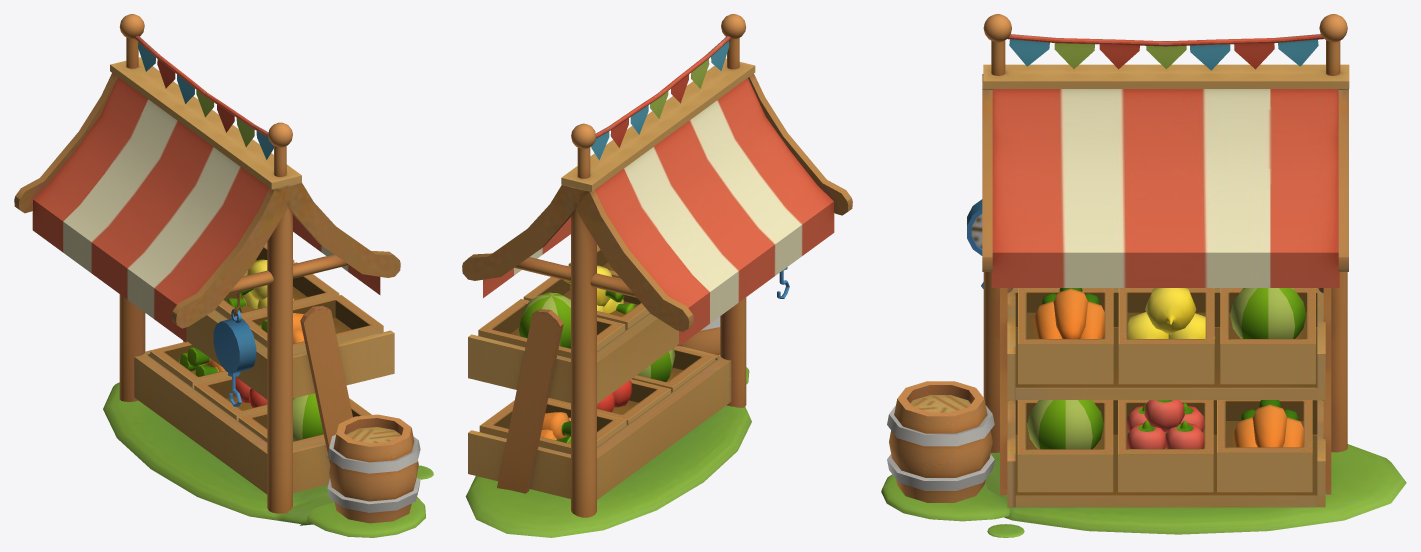
File: shop.fbx
3 views of the same model, side by side, from view 1: azimuth 30°, elevation 25°; view 2: azimuth 150°, elevation 25°; view 3: azimuth 270°, elevation 25° (orthographic). The views are drawn at different scales.
Visible parts, largest first — view 1: tent, floor, shop-1, roof-1, rack-2.001, Barrel, roof-2, rack-1, rack-2, Flags, Box-1.001, scales (+7 smaller); view 2: tent, floor, shop-1, rack-2.001, roof-1, rack-1, rack-2, roof-2, Flags, Box-3, Box-6, Box-5 (+9 smaller); view 3: tent, floor, Barrel, roof-2, rack-1, rack-2.001, shop-1, Box-1, Box-6, Box-1.001, Flags, Box-3 (+19 smaller).
Boxes of the visible parts, x1,y1,x2,y2 form: tent: (32, 77, 380, 342); floor: (103, 382, 433, 537); shop-1: (119, 37, 292, 513); roof-1: (14, 73, 400, 328); rack-2.001: (134, 342, 330, 494); Barrel: (327, 414, 420, 523); roof-2: (110, 57, 301, 189); rack-1: (186, 310, 394, 399); rack-2: (183, 306, 352, 464); Flags: (134, 35, 273, 159); Box-1.001: (243, 295, 383, 354); scales: (213, 308, 256, 406); tent: (483, 78, 834, 345); floor: (465, 367, 751, 537); shop-1: (571, 38, 746, 517); rack-2.001: (468, 345, 731, 499); roof-1: (462, 73, 852, 331); rack-1: (468, 313, 678, 403); rack-2: (497, 309, 681, 493); roof-2: (561, 58, 755, 191); Flags: (591, 36, 730, 160); Box-3: (478, 299, 625, 358); Box-6: (479, 400, 626, 454); Box-5: (548, 379, 670, 424); tent: (991, 89, 1339, 287); floor: (881, 444, 1406, 537); Barrel: (887, 381, 994, 502); roof-2: (983, 64, 1349, 88); rack-1: (1007, 288, 1325, 399); rack-2.001: (1007, 400, 1325, 507); shop-1: (983, 40, 1347, 452); Box-1: (1118, 288, 1214, 384); Box-6: (1217, 400, 1312, 492); Box-1.001: (1018, 288, 1113, 384); Flags: (1007, 34, 1323, 70); Box-3: (1220, 288, 1315, 384).
Bounding box in the file's own units: 260 × 372 × 395.
